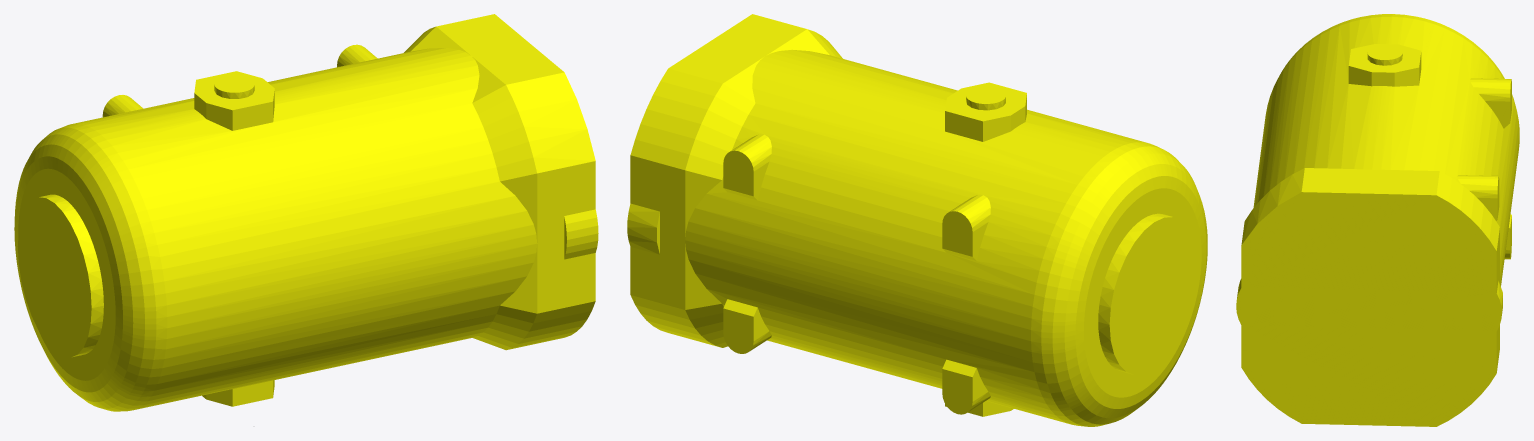
The picture shows the model from 3 angles, left to right: view 1: azimuth 30°, elevation 25°; view 2: azimuth 150°, elevation 25°; view 3: azimuth 270°, elevation 25°; orthographic projection. The views are drawn at different scales.
Visible parts, largest first — view 1: node; view 2: node; view 3: node.
Boxes of the visible parts, bbox=[...] form: node: bbox=[14, 14, 598, 426]; node: bbox=[627, 14, 1207, 426]; node: bbox=[1236, 14, 1519, 426].
Bounding box in the file's own units: 539 × 358 × 322.
